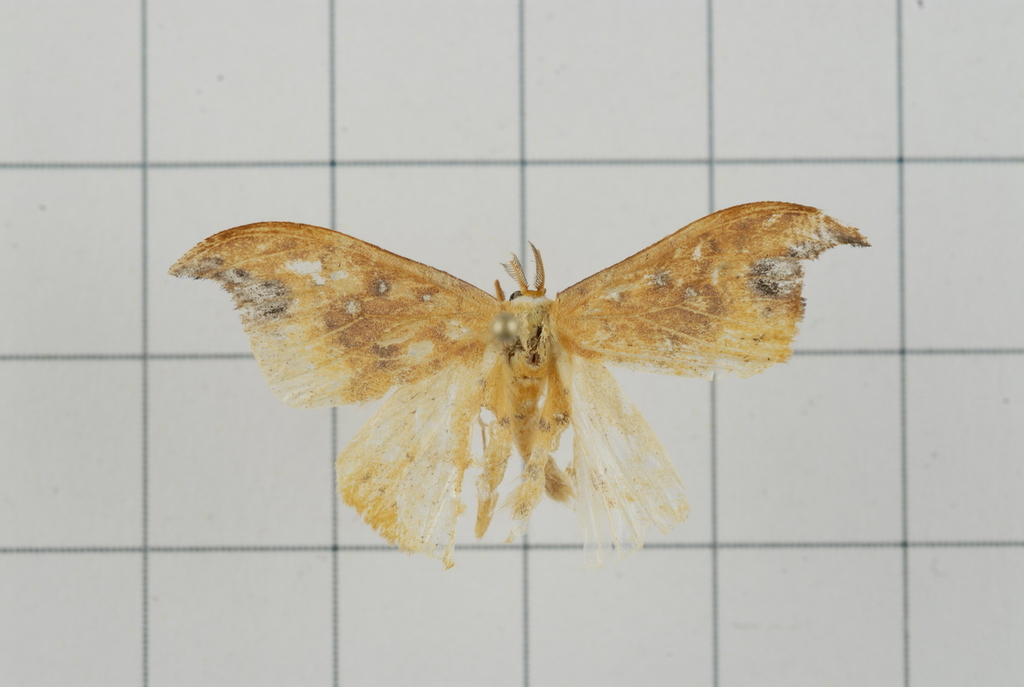Butterfly: (153, 168, 893, 581)
